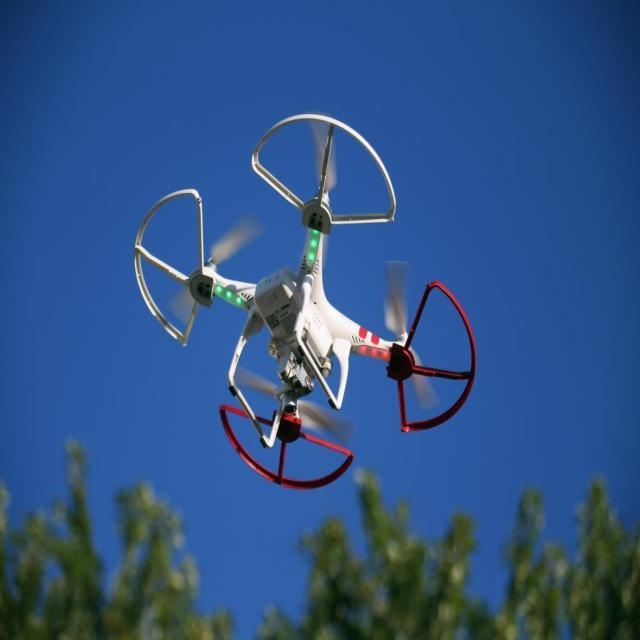drone: (130, 110, 479, 489)
